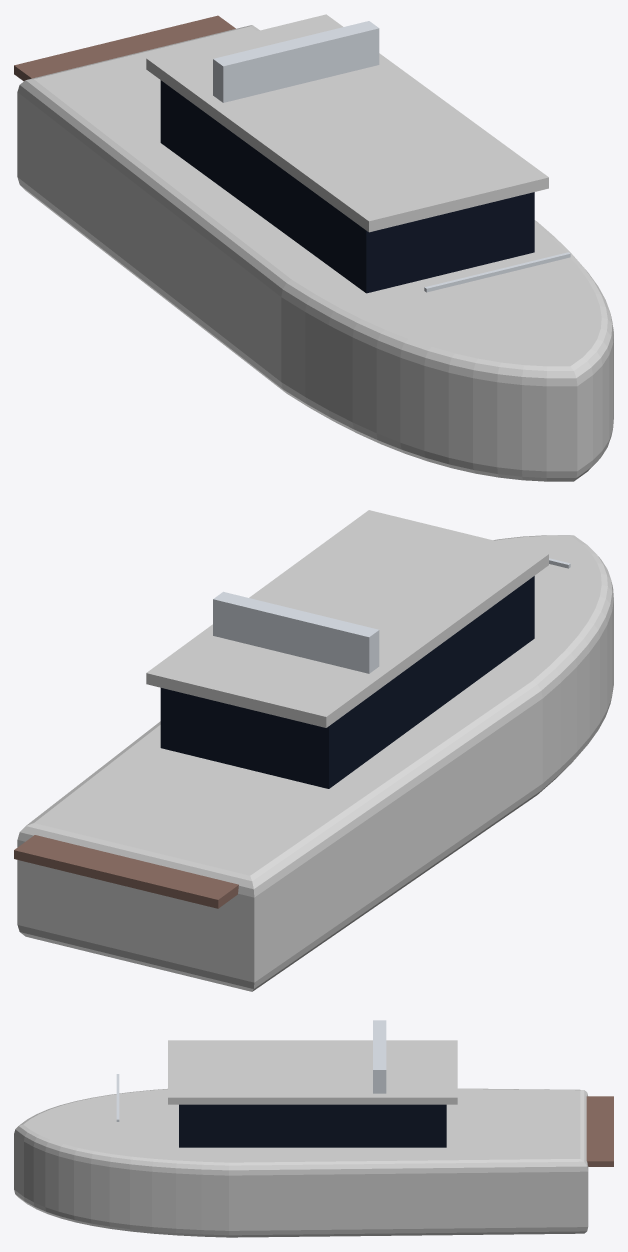
File: luxury_motor_yacht.glb
3 renders of one model, top to bottom at view 1: azimuth 30°, elevation 25°; view 2: azimuth 150°, elevation 25°; view 3: azimuth 270°, elevation 25°, orthographic. The views are drawn at different scales.
Visible parts, largest first — view 1: HullAndSuperstructure, CabinTintedGlass, ChromeFittingsAndArch, TeakSwimPlatform; view 2: HullAndSuperstructure, CabinTintedGlass, ChromeFittingsAndArch, TeakSwimPlatform; view 3: HullAndSuperstructure, CabinTintedGlass, TeakSwimPlatform, ChromeFittingsAndArch.
Boxes of the visible parts, <box> form: HullAndSuperstructure: <box>17,14,613,481</box>; CabinTintedGlass: <box>160,80,534,293</box>; ChromeFittingsAndArch: <box>213,21,570,292</box>; TeakSwimPlatform: <box>14,15,235,81</box>; HullAndSuperstructure: <box>17,510,613,991</box>; CabinTintedGlass: <box>160,576,534,788</box>; ChromeFittingsAndArch: <box>213,558,570,673</box>; TeakSwimPlatform: <box>14,835,238,908</box>; HullAndSuperstructure: <box>14,1040,588,1237</box>; CabinTintedGlass: <box>179,1104,446,1147</box>; TeakSwimPlatform: <box>586,1096,613,1166</box>; ChromeFittingsAndArch: <box>116,1020,386,1121</box>.
Size of the model in its own units: 3.7 by 3.2 by 11.31.
